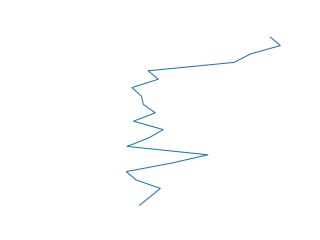crevasseRiverChannelBar: (121, 35, 284, 211)
